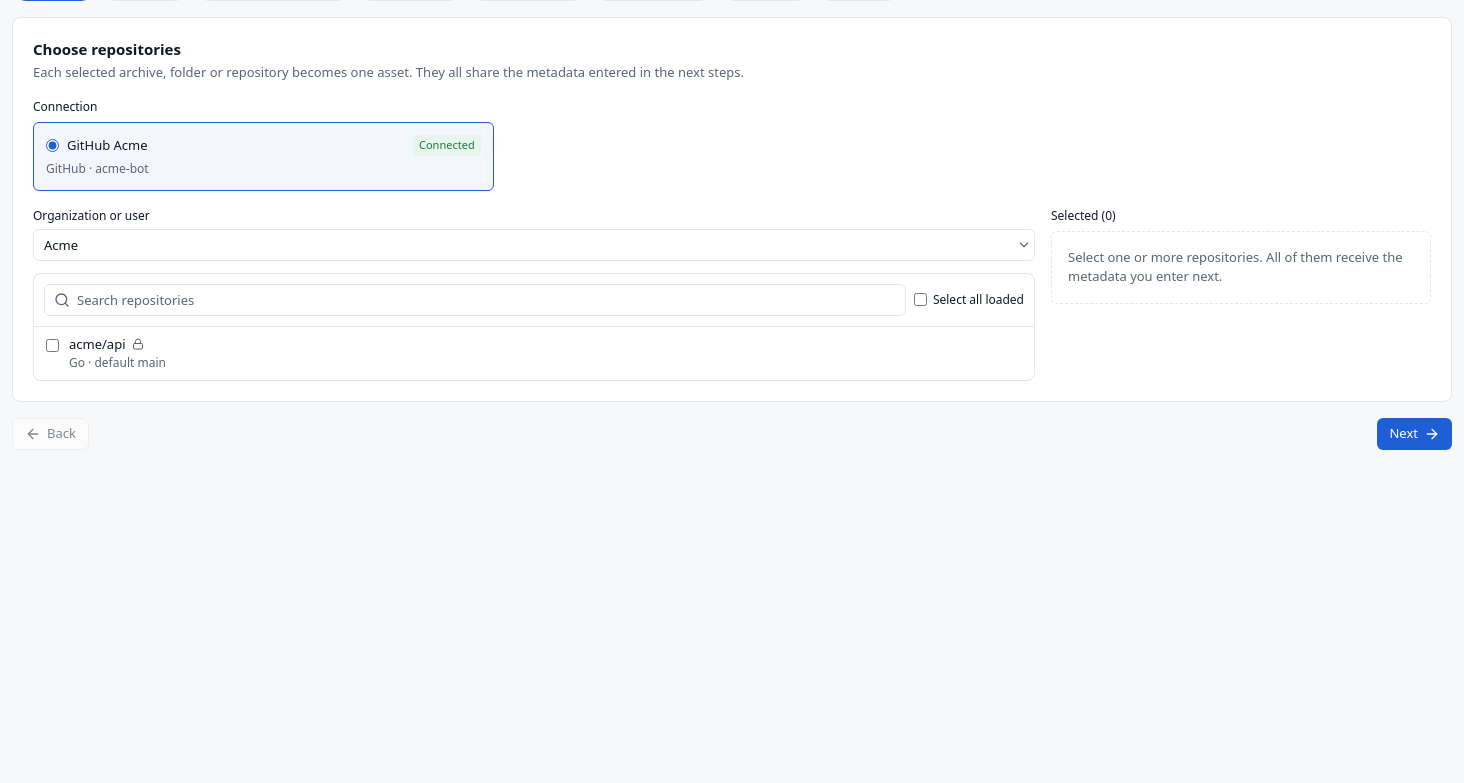
Scenario: onboarding wizard › blocks Next until required fields are filled
This screenshot has width=1464, height=783.
Click the checkbox named "Select acme/api" at (52, 345), box [46,338,59,352]
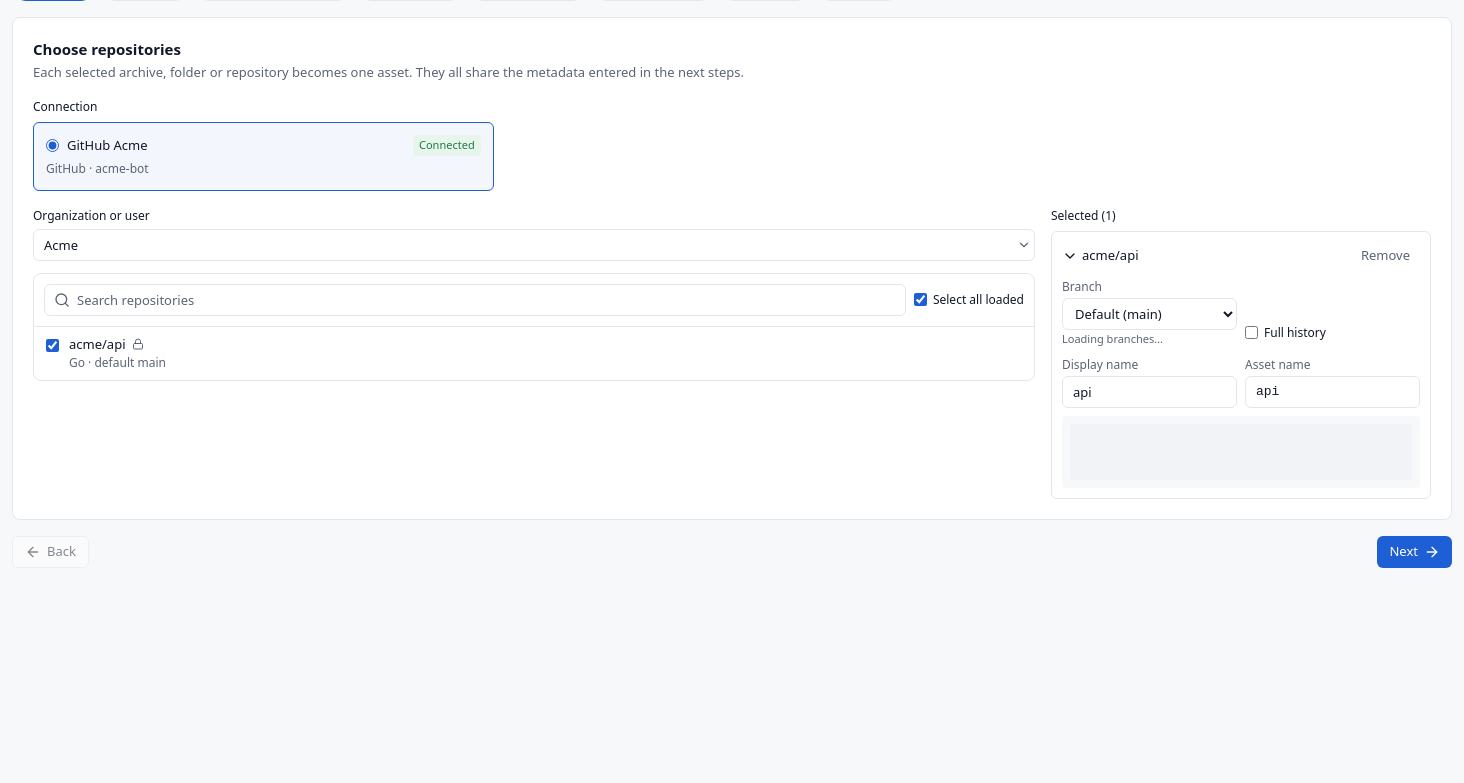
Click the button "Next" at (1415, 552), box [1378,536,1452,568]
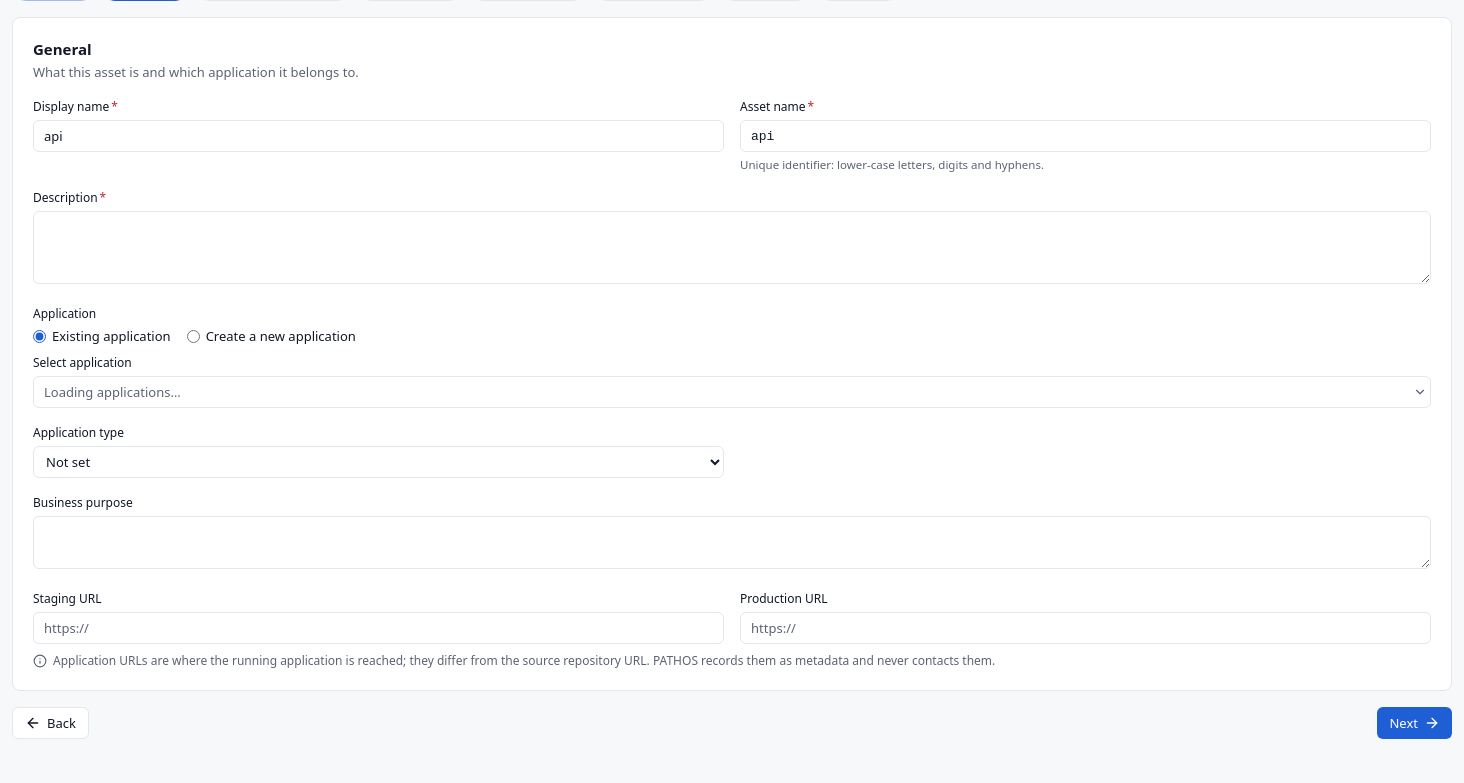
Expected: the heading "General" is shown, [33,39,92,59]
Expected: the field labelled "Display name*" holds "api", [33,120,724,152]
Expected: the field labelled "Asset name*" holds "api", [740,120,1431,152]
Click the button "Next" at (1415, 723), box [1378,707,1452,739]
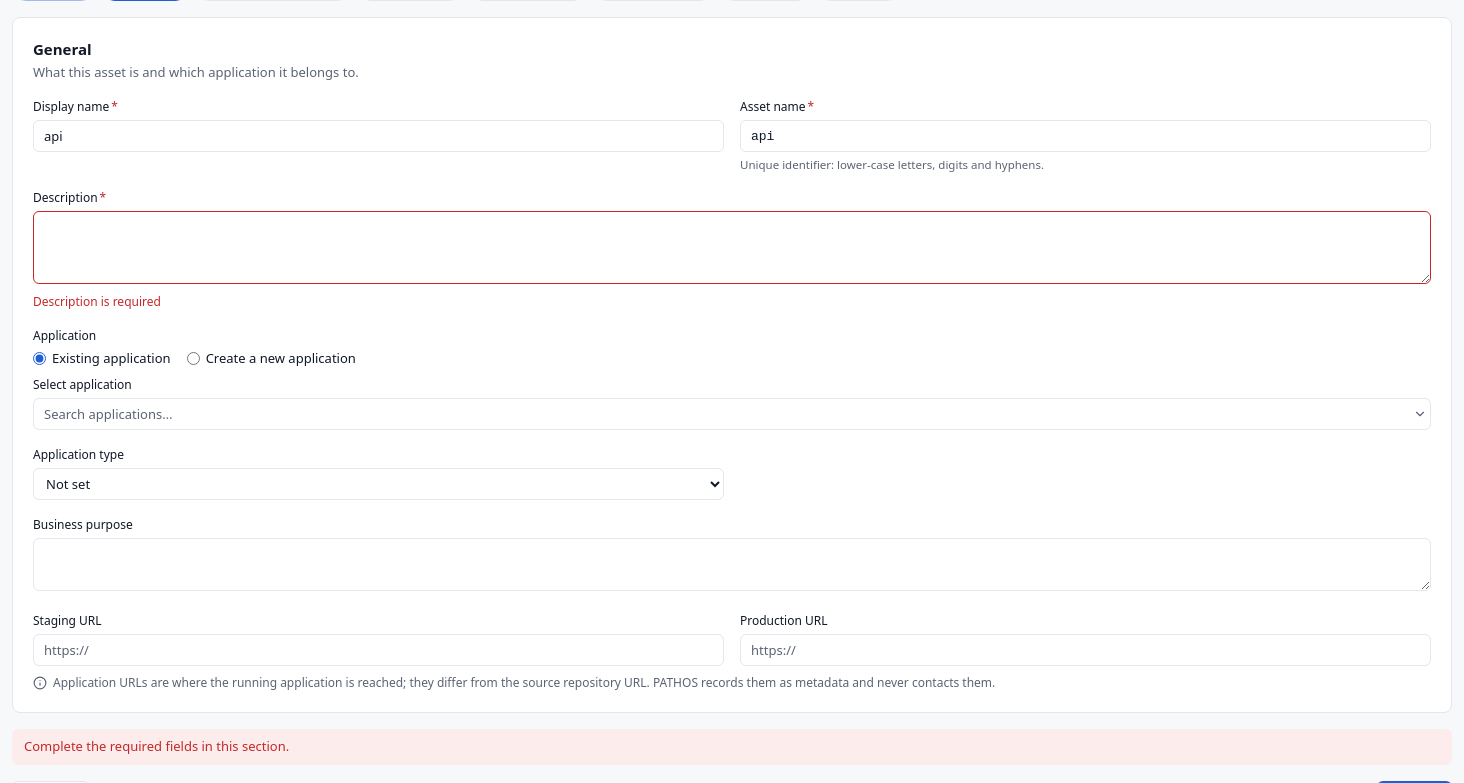
Expected: the heading "General" is shown, [33,39,92,59]
Expected: the text "Description is required" is shown, [33,293,161,310]
Type "Payments API" into the text box labelled "Description*" at (732, 248), box [33,211,1431,284]
(page scrolled)
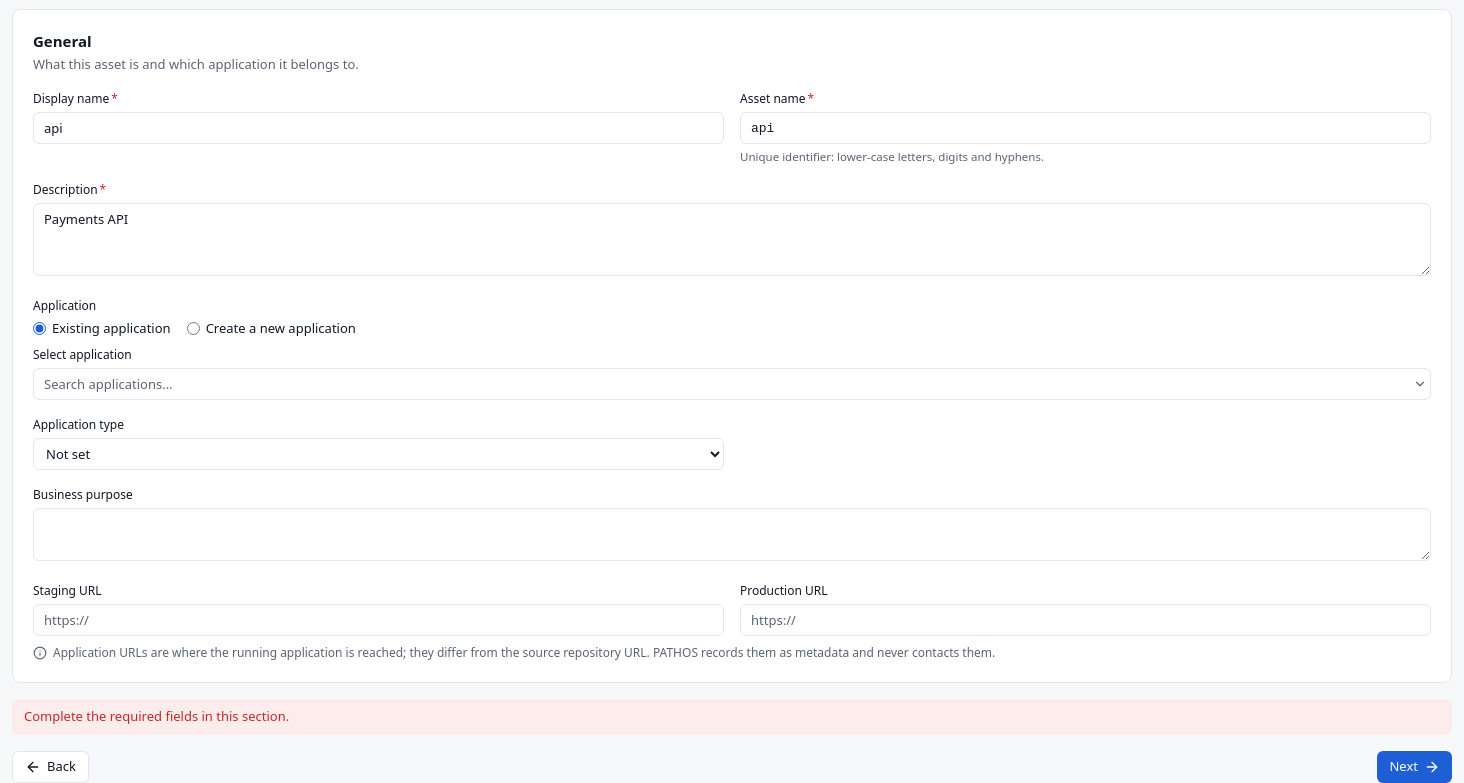
Click the button "Next" at (1415, 767), box [1378,751,1452,782]
(page scrolled)
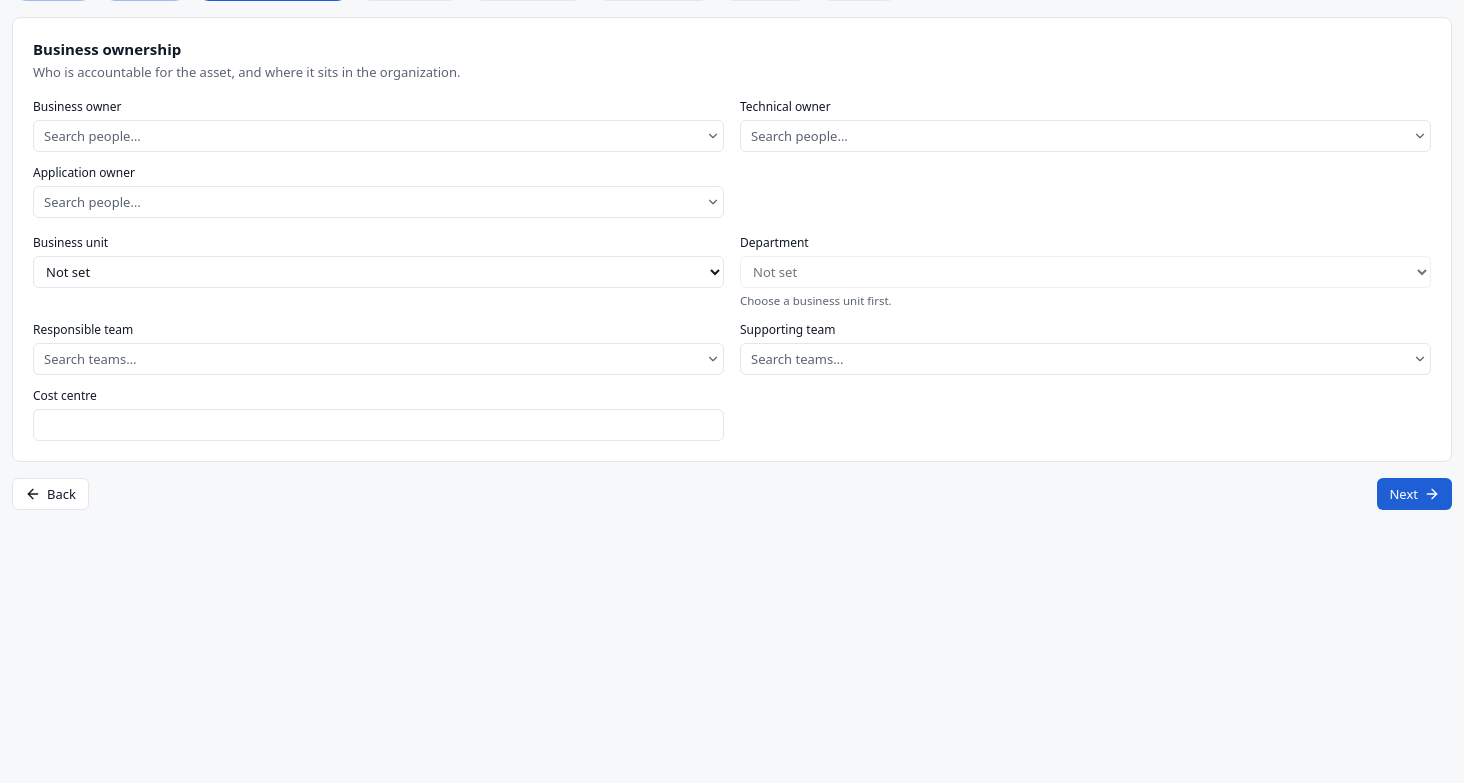
Expected: the heading "Business ownership" is shown, [33,39,181,59]
